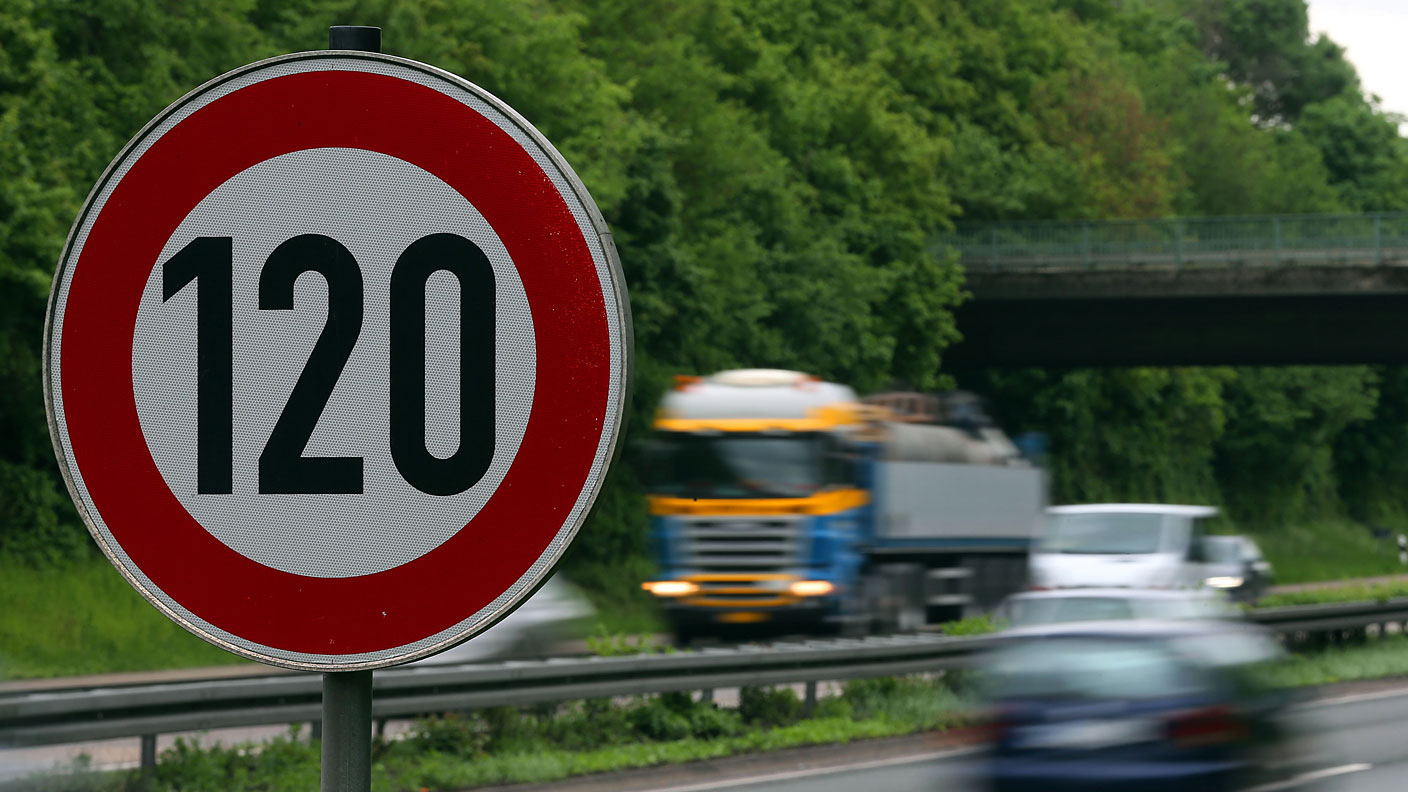Speed_limit_120km: (35, 49, 636, 676)
